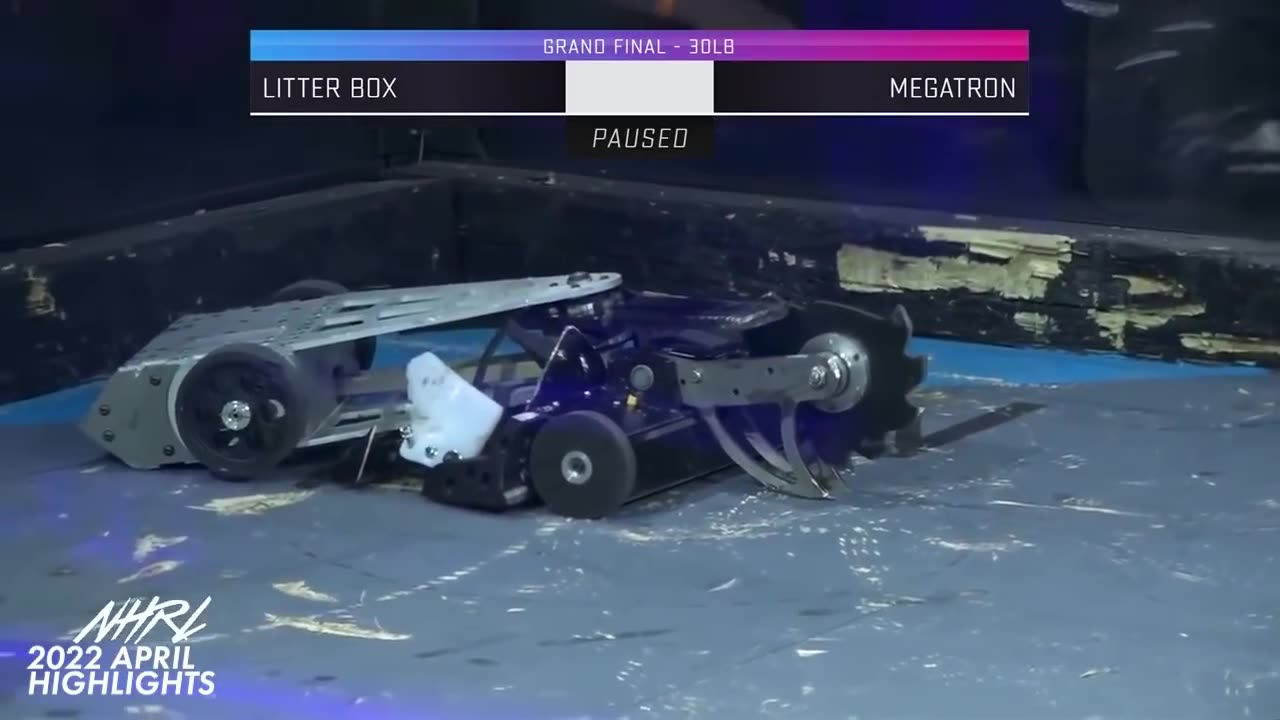combatbot: (73, 268, 624, 480), (538, 299, 938, 515)
